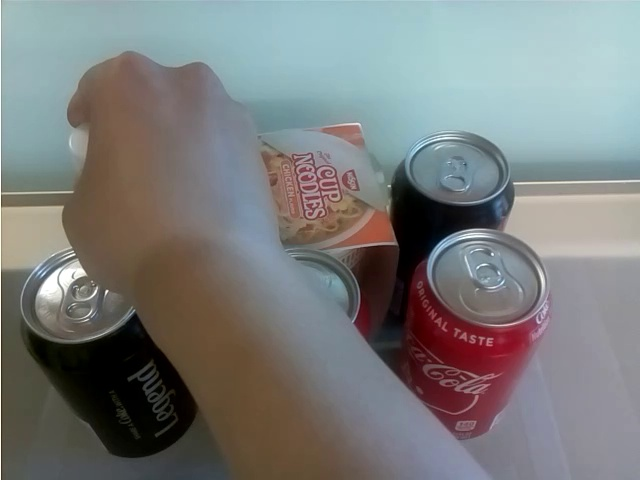cocacola: (14, 239, 199, 460), (402, 231, 553, 440), (393, 129, 518, 231), (282, 245, 374, 346)
hand: (49, 50, 281, 300)
noodles: (255, 119, 398, 348)
